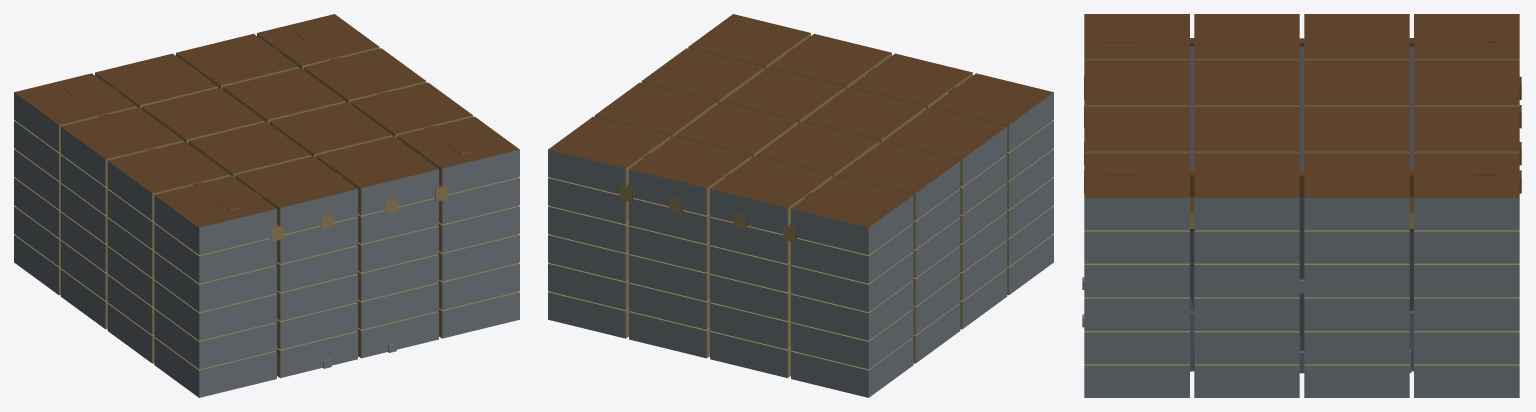
The model's file is House_4_destructible.gltf.
The picture shows the model from 3 angles, left to right: view 1: azimuth 30°, elevation 25°; view 2: azimuth 150°, elevation 25°; view 3: azimuth 270°, elevation 25°; orthographic projection. The views are drawn at different scales.
Parts seen in each view (by area): view 1: block_f5_r3_c0, block_f5_r3_c2, block_f5_r3_c1, block_f5_r3_c3, block_f5_r1_c0, block_f5_r2_c0, block_f5_r0_c0, block_f5_r1_c3, block_f5_r2_c2, block_f5_r2_c3, block_f5_r0_c2, block_f5_r1_c2 (+39 smaller); view 2: block_f5_r0_c0, block_f5_r0_c2, block_f5_r0_c1, block_f5_r0_c3, block_f5_r2_c0, block_f5_r1_c0, block_f5_r3_c0, block_f5_r1_c2, block_f5_r2_c3, block_f5_r1_c1, block_f5_r1_c3, block_f5_r2_c2 (+39 smaller); view 3: block_f5_r1_c3, block_f5_r2_c3, block_f5_r0_c3, block_f5_r3_c3, block_f5_r1_c1, block_f5_r1_c2, block_f5_r2_c1, block_f5_r2_c2, block_f5_r0_c1, block_f5_r0_c2, block_f5_r3_c1, block_f5_r1_c0 (+24 smaller).
Part boxes in pixels (x1,y1,x2,y2): block_f5_r3_c0: (154, 176, 278, 254); block_f5_r3_c2: (316, 136, 440, 215); block_f5_r3_c1: (235, 156, 357, 236); block_f5_r3_c3: (397, 116, 519, 196); block_f5_r1_c0: (60, 107, 183, 186); block_f5_r2_c0: (107, 142, 230, 220); block_f5_r0_c0: (14, 73, 136, 152); block_f5_r1_c3: (303, 48, 426, 103); block_f5_r2_c2: (269, 102, 392, 157); block_f5_r2_c3: (350, 82, 473, 138); block_f5_r0_c2: (176, 33, 298, 89); block_f5_r1_c2: (222, 68, 345, 123); block_f5_r0_c0: (788, 176, 913, 254); block_f5_r0_c2: (626, 136, 751, 215); block_f5_r0_c1: (710, 156, 832, 236); block_f5_r0_c3: (548, 116, 670, 197); block_f5_r2_c0: (884, 107, 1007, 186); block_f5_r1_c0: (837, 142, 960, 220); block_f5_r3_c0: (931, 73, 1053, 152); block_f5_r1_c2: (675, 102, 798, 157); block_f5_r2_c3: (641, 48, 764, 103); block_f5_r1_c1: (756, 122, 879, 177); block_f5_r1_c3: (594, 82, 717, 138); block_f5_r2_c2: (722, 68, 845, 123); block_f5_r1_c3: (1302, 153, 1411, 230); block_f5_r2_c3: (1192, 153, 1301, 230); block_f5_r0_c3: (1412, 153, 1521, 230); block_f5_r3_c3: (1084, 153, 1191, 230); block_f5_r1_c1: (1302, 60, 1411, 109); block_f5_r1_c2: (1302, 107, 1411, 156); block_f5_r2_c1: (1192, 60, 1301, 109); block_f5_r2_c2: (1192, 107, 1301, 156); block_f5_r0_c1: (1412, 60, 1521, 123); block_f5_r0_c2: (1412, 107, 1521, 173); block_f5_r3_c1: (1084, 60, 1191, 123); block_f5_r1_c0: (1302, 14, 1411, 63).
Size of the model in its own units: 8.41 by 4.3 by 8.5.
